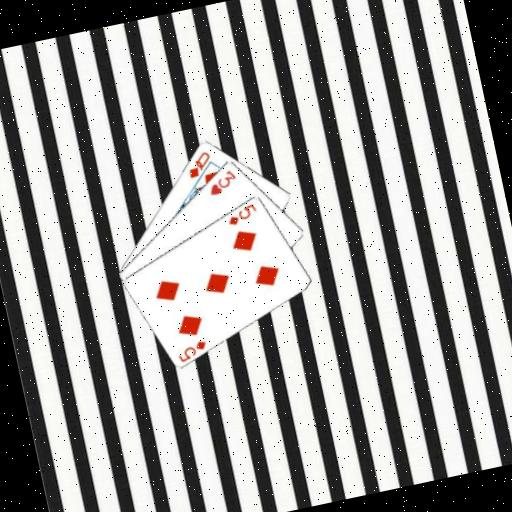3H: (203, 165, 240, 197)
5D: (172, 335, 211, 364), (223, 199, 261, 228)
QD: (181, 147, 215, 180)
